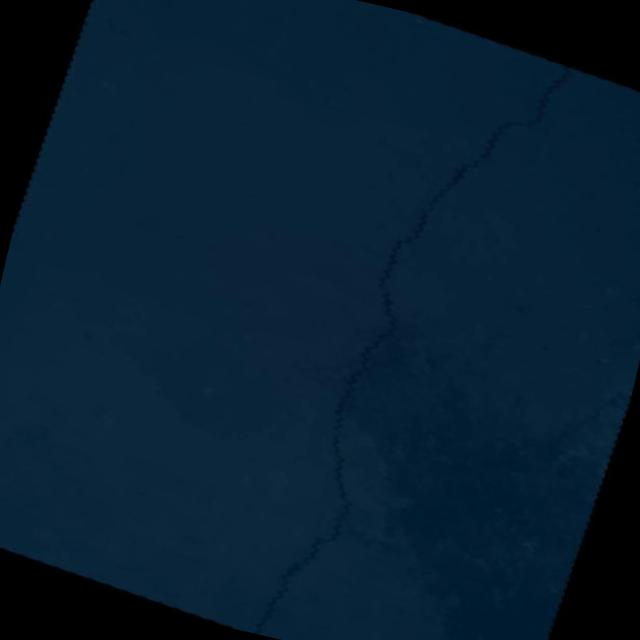crack: (252, 15, 575, 640)
